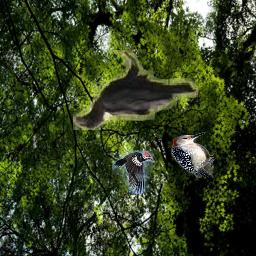Crow: (74, 50, 199, 130)
Woodpecker: (172, 132, 217, 178), (113, 150, 154, 194)
